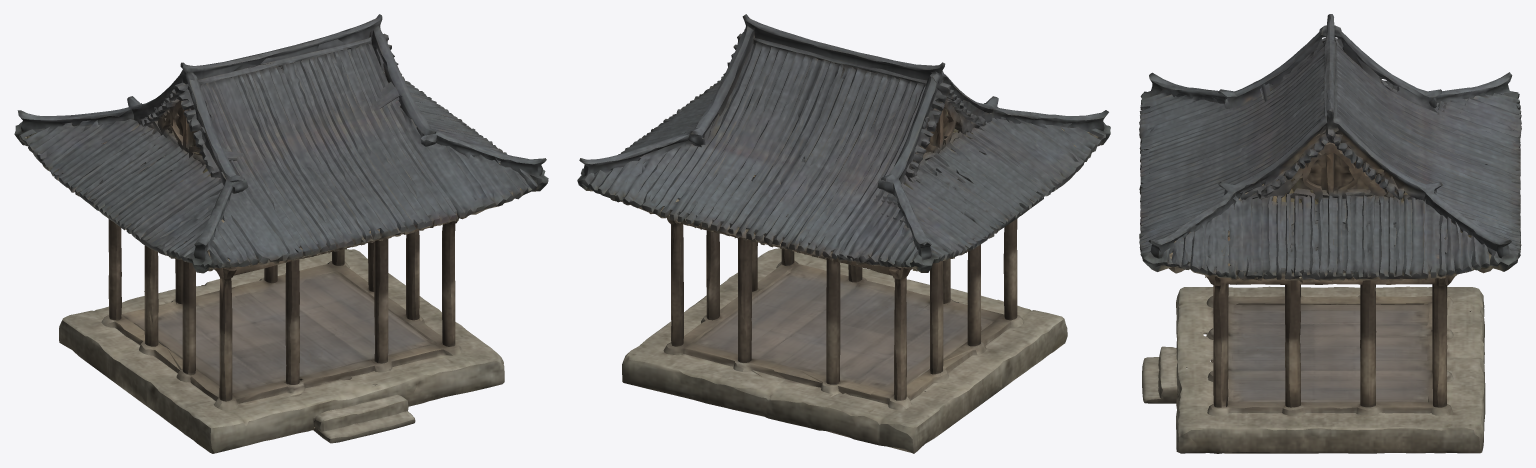
Rendered from ARCH-009.glb.
3 renders of one model, left to right at view 1: azimuth 30°, elevation 25°; view 2: azimuth 150°, elevation 25°; view 3: azimuth 270°, elevation 25°, orthographic.
Parts seen in each view (by area): view 1: world; view 2: world; view 3: world.
Boxes of the visible parts, x1,y1,x2,y2 form: world: (14, 14, 548, 453); world: (577, 14, 1110, 453); world: (1139, 14, 1521, 453).
Bounding box in the file's own units: 4.5 × 3.89 × 4.17.
Materials: 1 (1 with a texture image).
